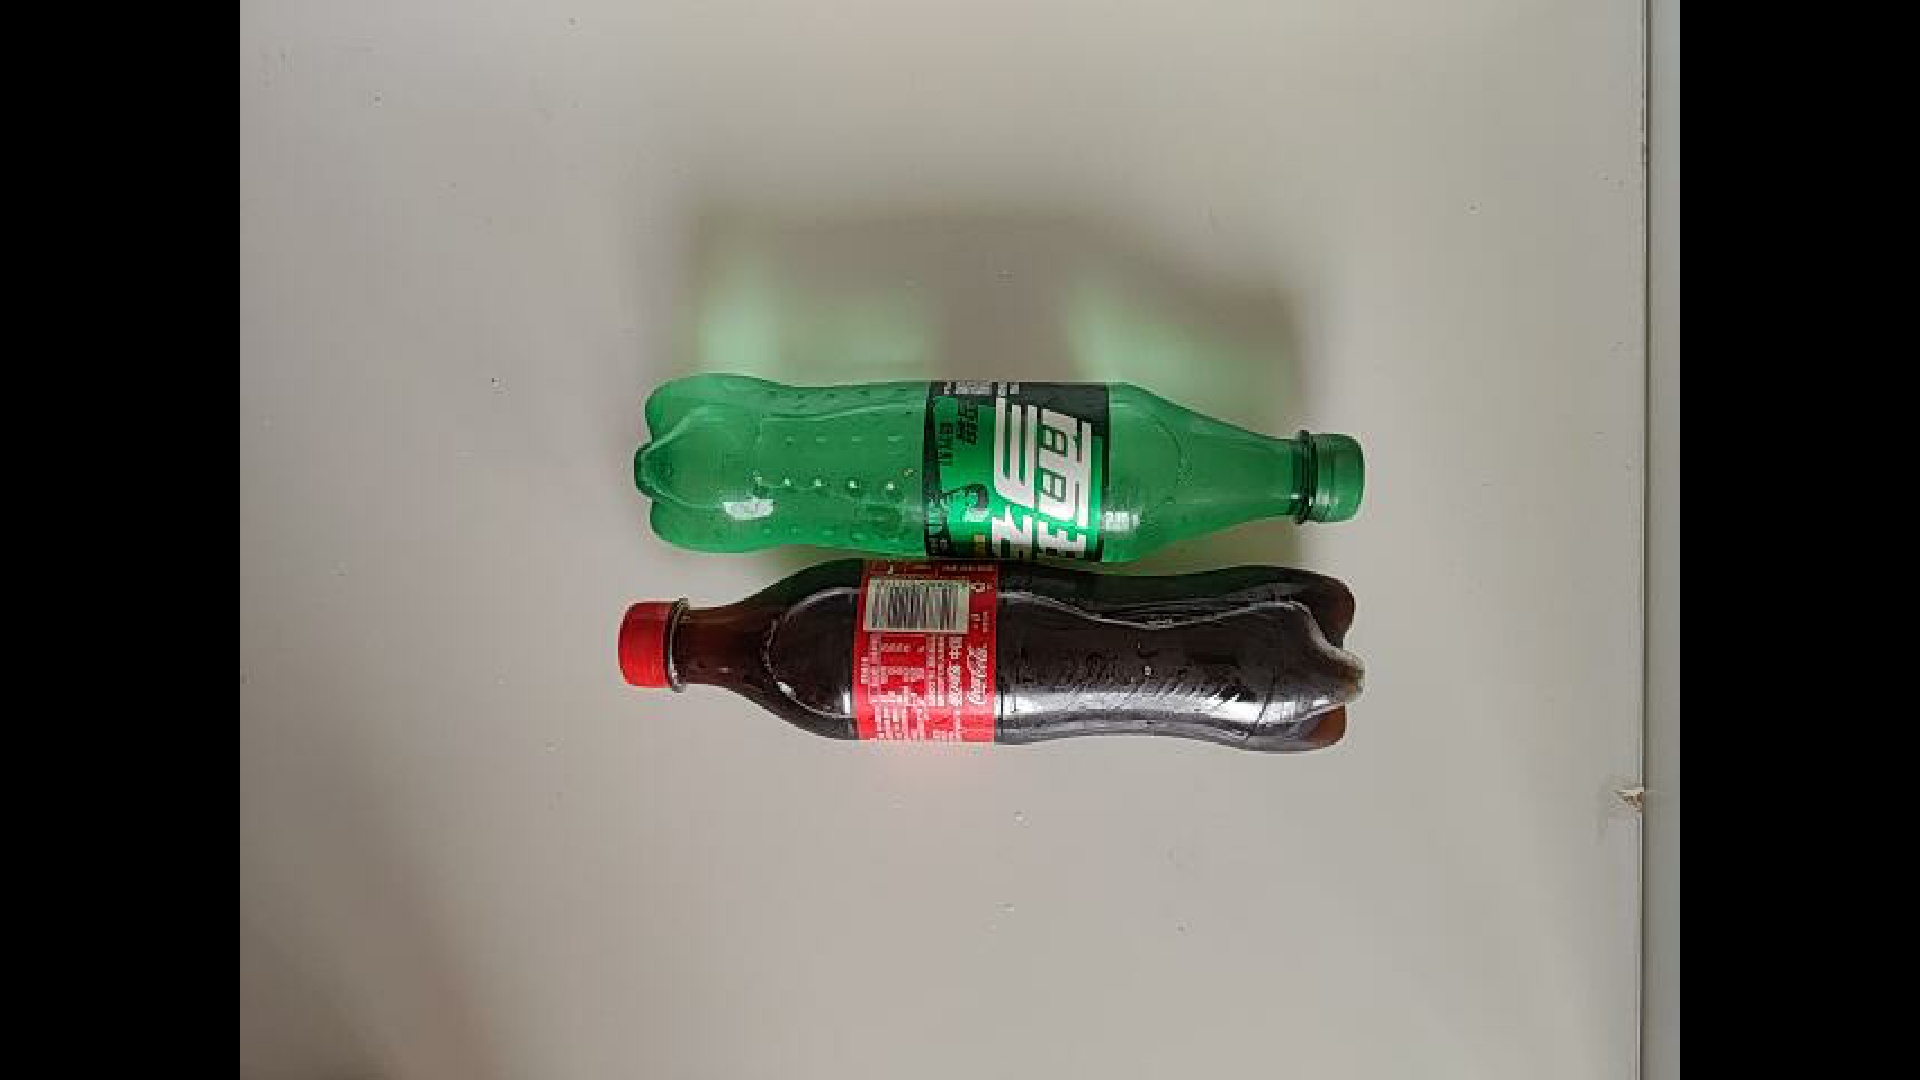cola: (615, 555, 1367, 756)
sprite: (630, 372, 1367, 559)
